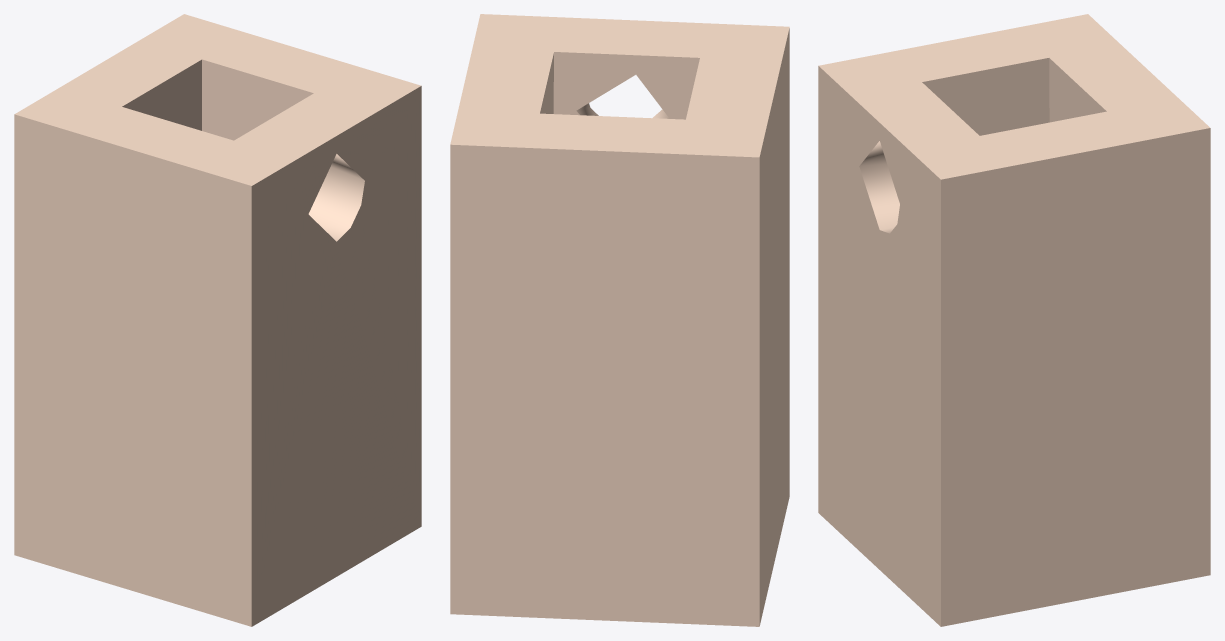
The model's file is Marteau - pont marteau_Quart - H.obj.
The picture shows the model from 3 angles, left to right: view 1: azimuth 30°, elevation 25°; view 2: azimuth 150°, elevation 25°; view 3: azimuth 270°, elevation 25°; orthographic projection. The views are drawn at different scales.
Parts seen in each view (by area): view 1: Face_8, Face_6, Face_10, Face_2, Face_3, Face_11; view 2: Face_9, Face_10, Face_8, Face_5; view 3: Face_7, Face_6, Face_10, Face_4, Face_11, Face_3.
Part boxes in pixels (x1=…): Face_8: x1=14, y1=114, x2=251, y2=626; Face_6: x1=251, y1=86, x2=421, y2=626; Face_10: x1=15, y1=14, x2=420, y2=185; Face_2: x1=202, y1=59, x2=313, y2=140; Face_3: x1=122, y1=59, x2=201, y2=130; Face_11: x1=308, y1=154, x2=364, y2=241; Face_9: x1=450, y1=144, x2=759, y2=626; Face_10: x1=450, y1=14, x2=789, y2=157; Face_8: x1=759, y1=28, x2=789, y2=625; Face_5: x1=553, y1=52, x2=699, y2=119; Face_7: x1=941, y1=128, x2=1210, y2=626; Face_6: x1=818, y1=66, x2=940, y2=626; Face_10: x1=819, y1=14, x2=1209, y2=179; Face_4: x1=922, y1=58, x2=1049, y2=135; Face_11: x1=859, y1=141, x2=899, y2=233; Face_3: x1=1049, y1=58, x2=1106, y2=122.
Bounding box in the file's own units: 0.00993 × 0.0125 × 0.00993.
